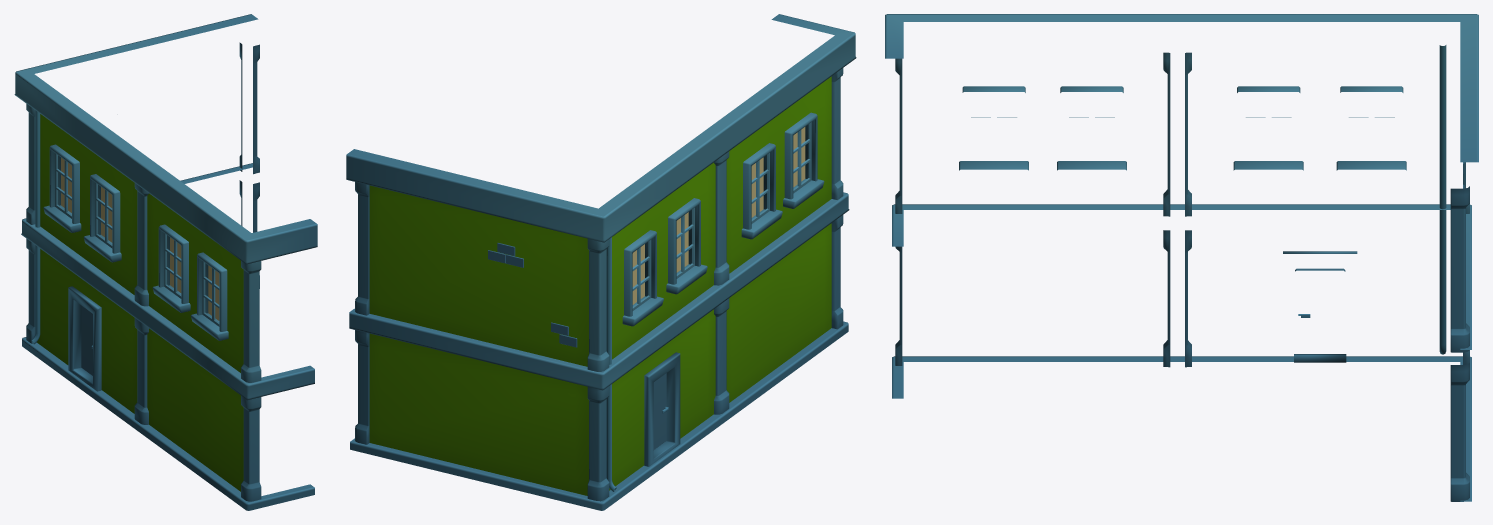
File: Apartments04Night.glb
3 views of the same model, side by side, from view 1: azimuth 30°, elevation 25°; view 2: azimuth 150°, elevation 25°; view 3: azimuth 270°, elevation 25° (orthographic). The views are drawn at different scales.
Parts seen in each view (by area): view 1: Apartments04Night; view 2: Apartments04Night; view 3: Apartments04Night.
Part boxes in pixels (box(x1,y1,x2,y2)): Apartments04Night: box(14, 14, 317, 510); Apartments04Night: box(346, 14, 856, 510); Apartments04Night: box(885, 14, 1478, 501).
Bounding box in the file's own units: 10.6 × 11.66 × 17.96.
Materials: 2 (1 with a texture image).
